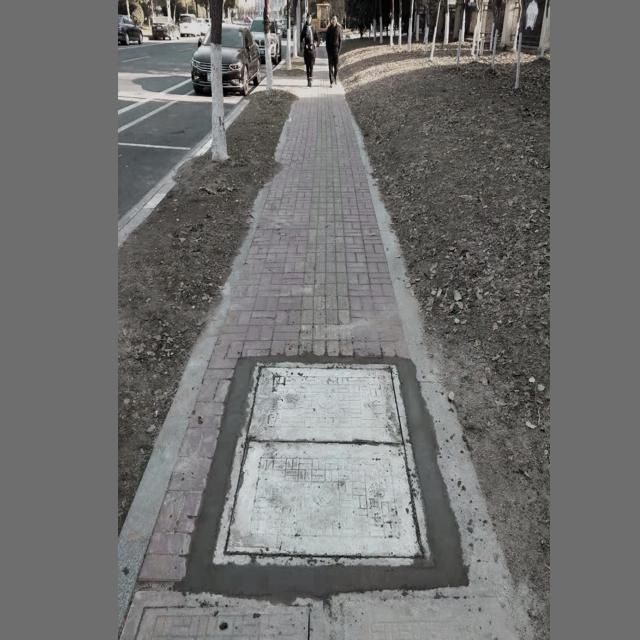good: (211, 361, 434, 567)
